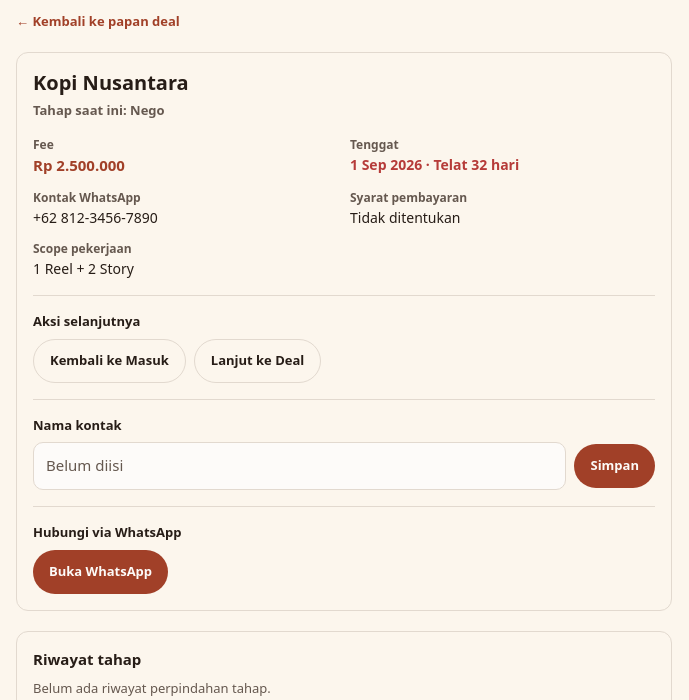
Test: DealDetailClient › shows an error and keeps the typed value when saving the contact name fails
This screenshot has width=689, height=700.
Type "Budi" into the field labelled "Nama kontak" at (300, 466), box [33, 442, 566, 490]
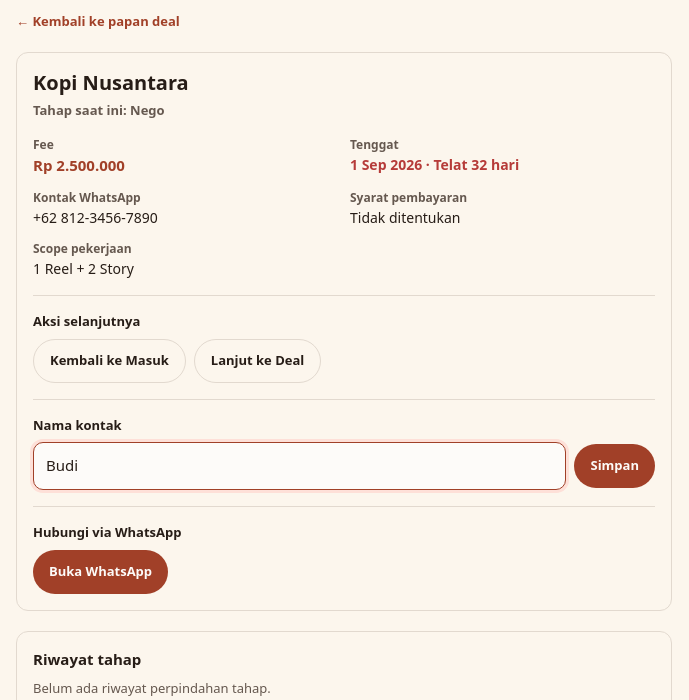
Click the button "Simpan" at (615, 466), box [574, 444, 655, 488]
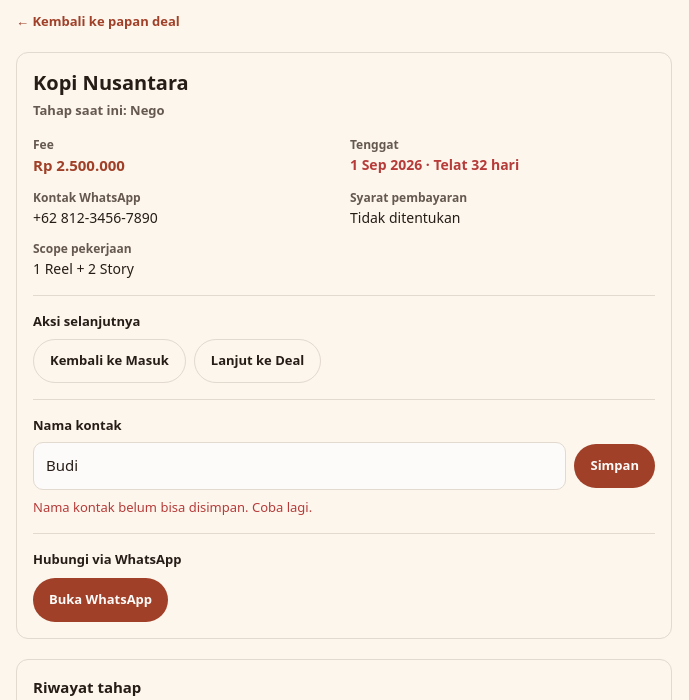
Now the message reads "Nama kontak belum bisa disimpan. Coba lagi.", box [33, 498, 312, 516]
